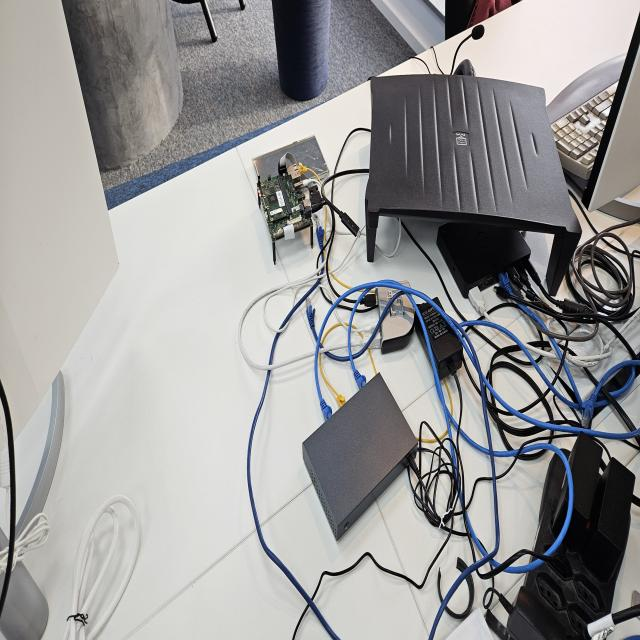som: (256, 174, 292, 227)
